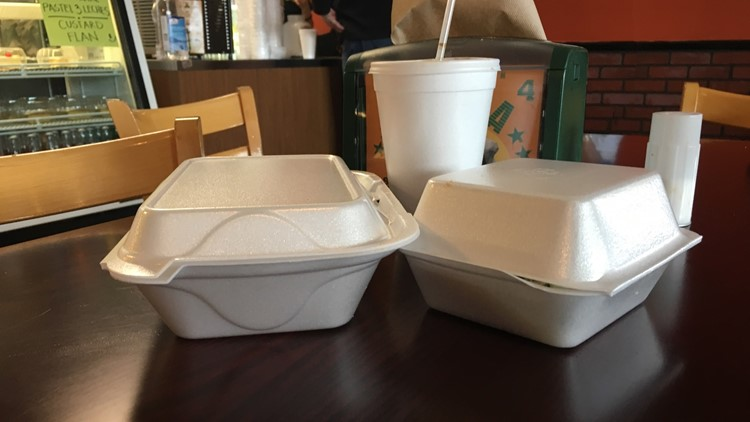styrofoam: (99, 152, 419, 341), (398, 155, 703, 350)
